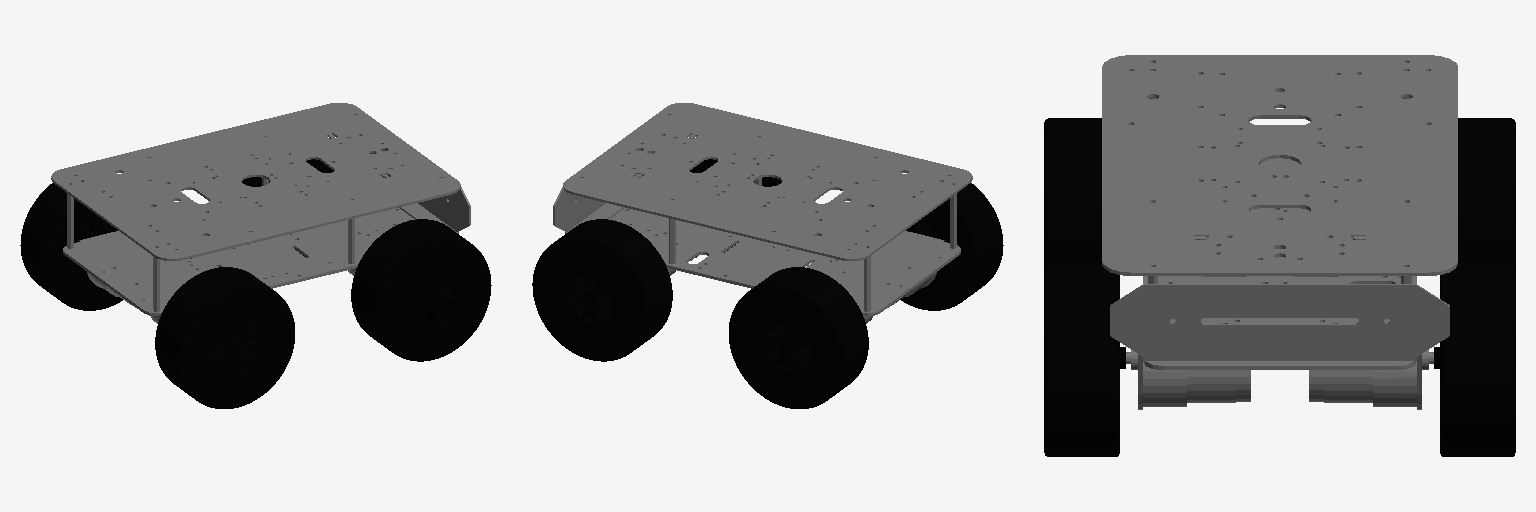
The robot description file, URDF, robot "tarkbot_model_v4":
<?xml version="1.0" encoding="utf-8"?>
<!-- This URDF was automatically created by SolidWorks to URDF Exporter! Originally created by [author] ([email redacted]) 
     Commit Version: 1.6.0-4-g7f85cfe  Build Version: 1.6.7995.38578
     For more information, please see http://wiki.ros.org/sw_urdf_exporter -->
<robot
  name="tarkbot_model_v4">
  <link
    name="base_link">
    <inertial>
      <origin
        xyz="0.003841 -0.00011226 0.0015135"
        rpy="0 0 0" />
      <mass
        value="1.3" />
      <inertia
        ixx="0.00055851"
        ixy="-2.2359E-07"
        ixz="-3.9351E-07"
        iyy="0.0011421"
        iyz="1.0586E-07"
        izz="0.0016527" />
    </inertial>
    <visual>
      <origin
        xyz="0 0 0"
        rpy="0 0 0" />
      <geometry>
        <mesh
          filename="package://tarkbot_robot/meshes/meshesV2/base_link.STL" />
      </geometry>
      <material
        name="">
        <color
          rgba="0.5 0.5 0.5 1" />
      </material>
    </visual>
    <collision>
      <origin
        xyz="0 0 0"
        rpy="0 0 0" />
      <geometry>
        <mesh
          filename="package://tarkbot_robot/meshes/meshesV2/base_link.STL" />
      </geometry>
    </collision>
  </link>
  <link
    name="front_left_wheel">
    <inertial>
      <origin
        xyz="2.8482E-07 0.022737 8.5654E-08"
        rpy="0 0 0" />
      <mass
        value="0.25253" />
      <inertia
        ixx="0.00020889"
        ixy="2.9924E-10"
        ixz="8.7397E-11"
        iyy="0.0003594"
        iyz="8.9988E-11"
        izz="0.00020889" />
    </inertial>
    <visual>
      <origin
        xyz="0 0 0"
        rpy="0 0 0" />
      <geometry>
        <mesh
          filename="package://tarkbot_robot/meshes/meshesV2/front_left_wheel.STL" />
      </geometry>
      <material
        name="">
        <color
          rgba="0.03 0.03 0.03 1" />
      </material>
    </visual>
    <collision>
      <origin
        xyz="0 0 0"
        rpy="0 0 0" />
      <geometry>
        <mesh
          filename="package://tarkbot_robot/meshes/meshesV2/front_left_wheel.STL" />
      </geometry>
    </collision>
  </link>
  <joint
    name="front_left_joint"
    type="continuous">
    <origin
      xyz="0.084 0.0777 -0.0145"
      rpy="0 0 0" />
    <parent
      link="base_link" />
    <child
      link="front_left_wheel" />
    <axis
      xyz="0 1 0" />
    <limit
      effort="10"
      velocity="60" />
  </joint>
  <link
    name="front_right_wheel">
    <inertial>
      <origin
        xyz="-2.0424E-07 -0.011718 -2.1621E-07"
        rpy="0 0 0" />
      <mass
        value="0.25253" />
      <inertia
        ixx="0.00020889"
        ixy="2.1458E-10"
        ixz="1.582E-10"
        iyy="0.0003594"
        iyz="2.2715E-10"
        izz="0.00020889" />
    </inertial>
    <visual>
      <origin
        xyz="0 0 0"
        rpy="0 0 0" />
      <geometry>
        <mesh
          filename="package://tarkbot_robot/meshes/meshesV2/front_right_wheel.STL" />
      </geometry>
      <material
        name="">
        <color
          rgba="0.03 0.03 0.03 1" />
      </material>
    </visual>
    <collision>
      <origin
        xyz="0 0 0"
        rpy="0 0 0" />
      <geometry>
        <mesh
          filename="package://tarkbot_robot/meshes/meshesV2/front_right_wheel.STL" />
      </geometry>
    </collision>
  </link>
  <joint
    name="front_right_joint"
    type="continuous">
    <origin
      xyz="0.084 -0.088718 -0.0145"
      rpy="0 0 0" />
    <parent
      link="base_link" />
    <child
      link="front_right_wheel" />
    <axis
      xyz="0 1 0" />
    <limit
      effort="10"
      velocity="60" />
  </joint>
  <link
    name="rear_left_wheel">
    <inertial>
      <origin
        xyz="2.079E-07 0.022737 -2.1269E-07"
        rpy="0 0 0" />
      <mass
        value="0.25253" />
      <inertia
        ixx="0.00020889"
        ixy="2.1843E-10"
        ixz="-1.5841E-10"
        iyy="0.0003594"
        iyz="-2.2346E-10"
        izz="0.00020889" />
    </inertial>
    <visual>
      <origin
        xyz="0 0 0"
        rpy="0 0 0" />
      <geometry>
        <mesh
          filename="package://tarkbot_robot/meshes/meshesV2/rear_left_wheel.STL" />
      </geometry>
      <material
        name="">
        <color
          rgba="0.03 0.03 0.03 1" />
      </material>
    </visual>
    <collision>
      <origin
        xyz="0 0 0"
        rpy="0 0 0" />
      <geometry>
        <mesh
          filename="package://tarkbot_robot/meshes/meshesV2/rear_left_wheel.STL" />
      </geometry>
    </collision>
  </link>
  <joint
    name="rear_left_joint"
    type="continuous">
    <origin
      xyz="-0.084 0.0777 -0.0145"
      rpy="0 0 0" />
    <parent
      link="base_link" />
    <child
      link="rear_left_wheel" />
    <axis
      xyz="0 1 0" />
    <limit
      effort="10"
      velocity="60" />
  </joint>
  <link
    name="rear_right_wheel">
    <inertial>
      <origin
        xyz="-1.8477E-07 -0.011718 -2.3307E-07"
        rpy="0 0 0" />
      <mass
        value="0.25253" />
      <inertia
        ixx="0.00020889"
        ixy="1.9412E-10"
        ixz="1.5427E-10"
        iyy="0.0003594"
        iyz="2.4486E-10"
        izz="0.00020889" />
    </inertial>
    <visual>
      <origin
        xyz="0 0 0"
        rpy="0 0 0" />
      <geometry>
        <mesh
          filename="package://tarkbot_robot/meshes/meshesV2/rear_right_wheel.STL" />
      </geometry>
      <material
        name="">
        <color
          rgba="0.03 0.03 0.03 1" />
      </material>
    </visual>
    <collision>
      <origin
        xyz="0 0 0"
        rpy="0 0 0" />
      <geometry>
        <mesh
          filename="package://tarkbot_robot/meshes/meshesV2/rear_right_wheel.STL" />
      </geometry>
    </collision>
  </link>
  <joint
    name="rear_right_joint"
    type="continuous">
    <origin
      xyz="-0.084 -0.088718 -0.0145"
      rpy="0 0 0" />
    <parent
      link="base_link" />
    <child
      link="rear_right_wheel" />
    <axis
      xyz="0 1 0" />
    <limit
      effort="10"
      velocity="60" />
  </joint>

  <link name="imu_link">
    <inertial>
      <origin xyz="0.0 0.0 0.0" rpy="0.0 0.0 0.0"/>
      <mass value="0.0"/>
      <inertia ixx="0.0" ixy="0.0" ixz="0.0" iyy="0.0" iyz="0.0" izz="0.0"/>
    </inertial>
  </link>

  <link
    name="laser_link">
    <inertial>
      <origin
        xyz="0.008 0.018 0"
        rpy="1.571 0 -0.34" />
      <mass
        value="0.4" />
      <inertia
        ixx="0"
        ixy="0"
        ixz="0"
        iyy="0"
        iyz="0"
        izz="0" />
    </inertial>
    <visual>
      <origin
        xyz="0.008 0.018 0"
        rpy="1.571 0 -0.34" />
      <geometry>
        <mesh
          filename="package://tarkbot_robot/meshes/meshesV2/rplidarA2.stl" />
      </geometry>
      <material
        name="">
        <color
          rgba="0.05 0.05 0.05 1" />
      </material>
    </visual>
    <collision>
      <origin
        xyz="0.008 0.018 0"
        rpy="1.571 0 -0.34" />
      <geometry>
        <mesh
          filename="package://tarkbot_robot/meshes/meshesV2/rplidarA2.stl" />
      </geometry>
    </collision>
  </link>

  <link name="camera_link">
    <inertial>
      <origin xyz="0.0 0.0 0.0" rpy="0.0 0.0 0.0"/>
      <mass value="0.0"/>
      <inertia ixx="0.0" ixy="0.0" ixz="0.0" iyy="0.0" iyz="0.0" izz="0.0"/>
    </inertial>
  </link>

  <joint name="imu_joint" type="fixed">
    <origin xyz="0.0 0.0 0.0" rpy="0.0 0.0 0.0"/>
    <parent link="base_link"/>
    <child link="imu_link"/>
  </joint>

  <joint name="3d_laser_scanner_joint" type="fixed">
    <origin xyz="0.07 0.0 0.074" rpy="0.0 0.0 3.05"/>
    <!-- <origin xyz="0.0 0.0 0.0" rpy="0.0 0.0 3.14"/> -->
    <parent link="base_link"/>
    <child link="laser_link"/>
  </joint>

  <joint name="third_person_camera_joint" type="fixed">
    <origin xyz="-1.5 0.0 1.0" rpy="0.0 0.25 0.0"/>
    <parent link="base_link"/>
    <child link="camera_link"/>
  </joint>


</robot>

--- Facts derived from the render (not from the file) ---
3 views of the same robot in one strip: view 1: azimuth 30°, elevation 25°; view 2: azimuth 150°, elevation 25°; view 3: azimuth 270°, elevation 25° (orthographic).
Model tarkbot_model_v4 with 8 links and 7 joints (4 continuous, 3 fixed), rooted at base_link, posed every joint at zero.
Links seen in each view (by area): view 1: base_link, front_right_wheel, rear_right_wheel, rear_left_wheel; view 2: base_link, front_left_wheel, rear_left_wheel, rear_right_wheel; view 3: base_link, front_left_wheel, front_right_wheel, rear_left_wheel, rear_right_wheel.
Boxes of the visible links, x1,y1,x2,y2 form: base_link: [51, 103, 470, 323]; front_right_wheel: [351, 219, 491, 361]; rear_right_wheel: [155, 267, 294, 408]; rear_left_wheel: [20, 183, 122, 310]; base_link: [553, 103, 972, 323]; front_left_wheel: [532, 219, 672, 361]; rear_left_wheel: [729, 267, 868, 408]; rear_right_wheel: [901, 183, 1003, 310]; base_link: [1102, 55, 1457, 409]; front_left_wheel: [1434, 259, 1515, 456]; front_right_wheel: [1044, 259, 1125, 456]; rear_left_wheel: [1458, 118, 1515, 262]; rear_right_wheel: [1044, 118, 1101, 262].
Size in the robot's own frame: 0.2685 by 0.2378 by 0.119 metres.
5 mesh visuals loaded from 6 distinct referenced files (5 binary STL); not drawn: 1 (reference not matched to a file when rendering).